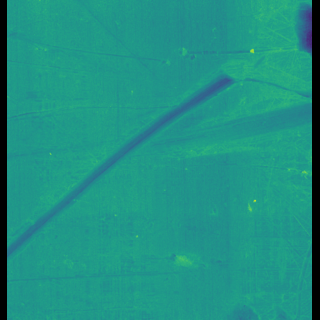Loch: (14, 51, 258, 284), (234, 0, 304, 320), (145, 89, 305, 165), (11, 24, 170, 67), (161, 244, 205, 279)
